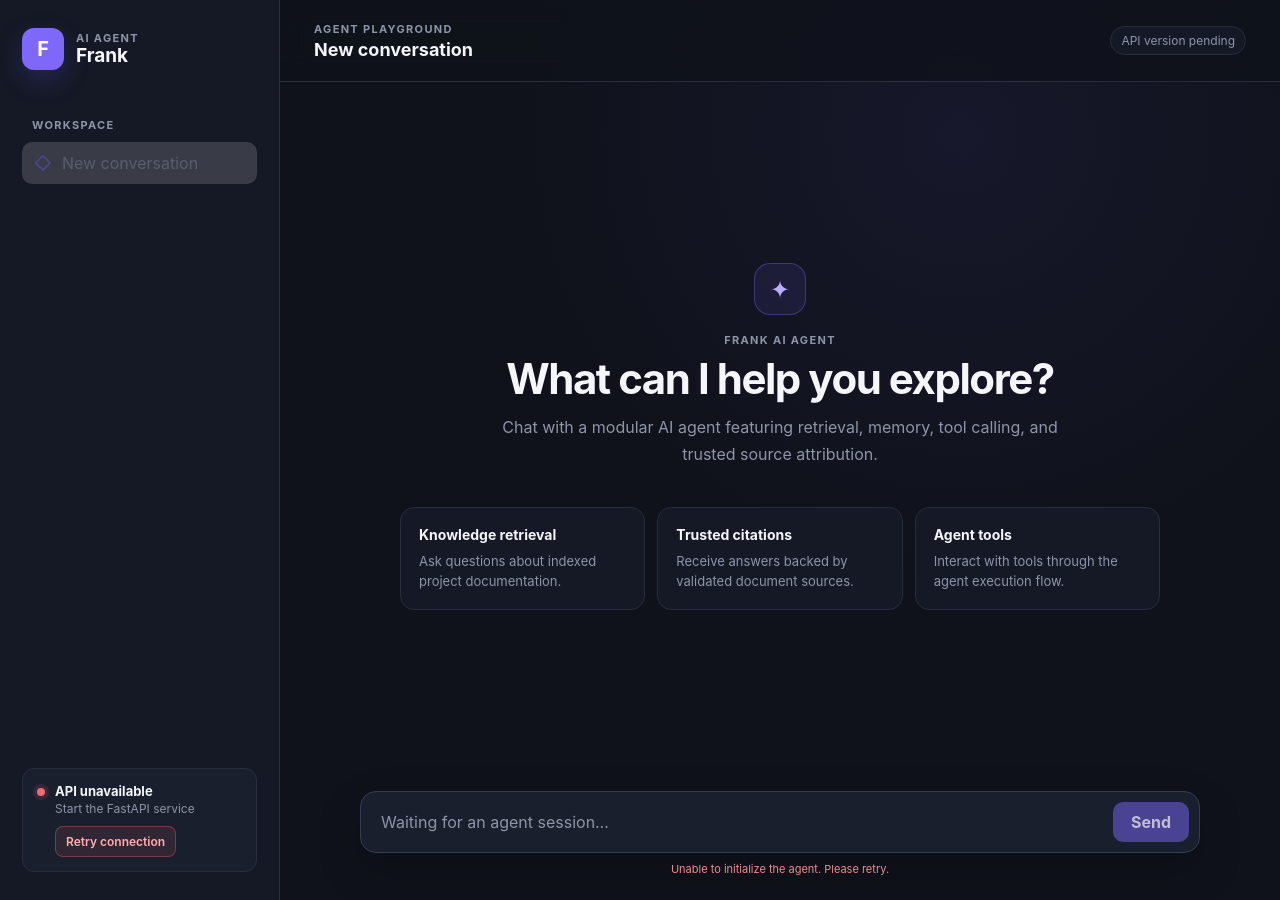
Test: App › should retry initialization after the API becomes available
Expected: the text "API unavailable" is shown, [55,783,153,799]
Click the button "Retry connection" at (116, 842), box [55,826,176,857]
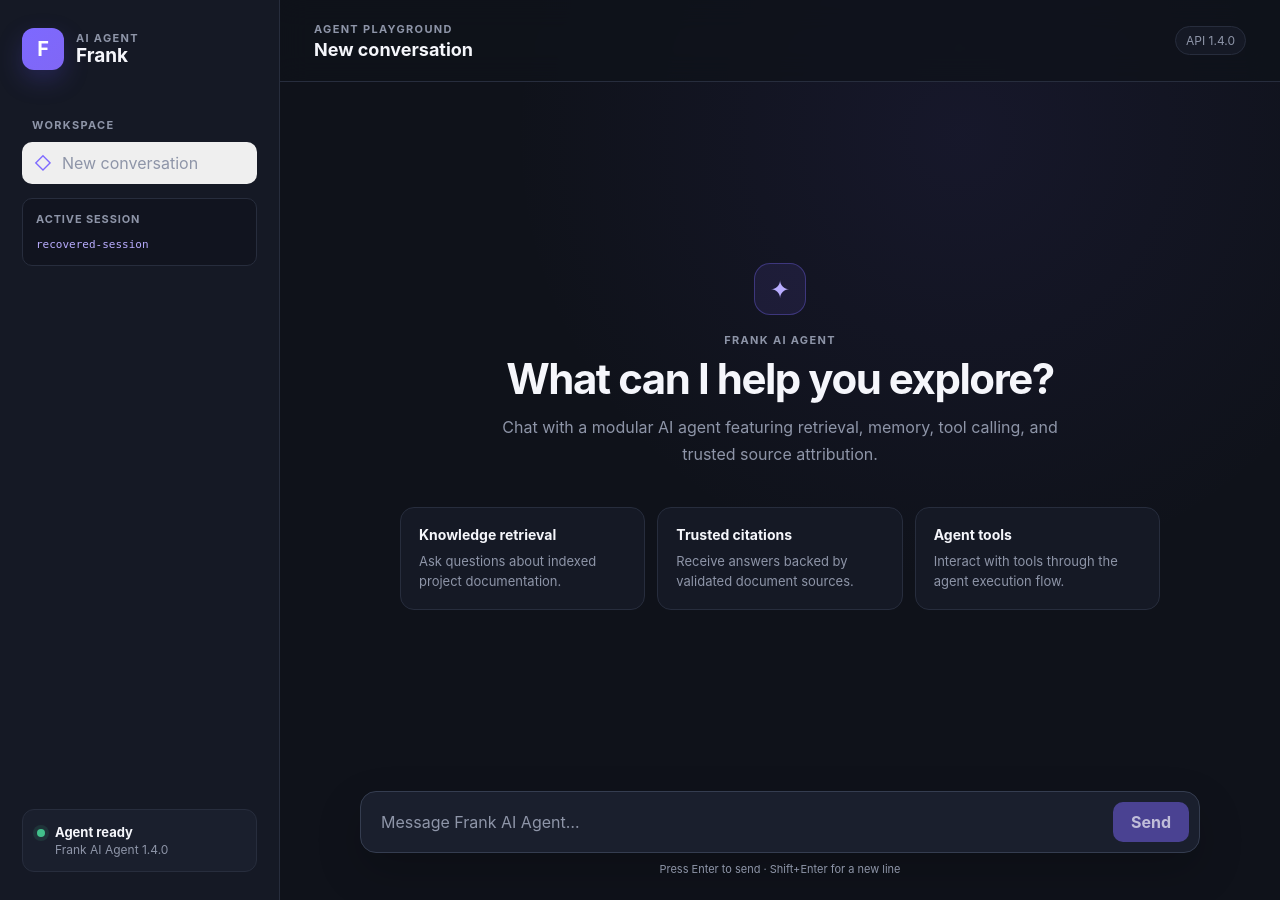
Result: the text "Agent ready" is shown at [55,824,133,840]
Result: the text titled "recovered-session" is shown at [36,238,149,251]
